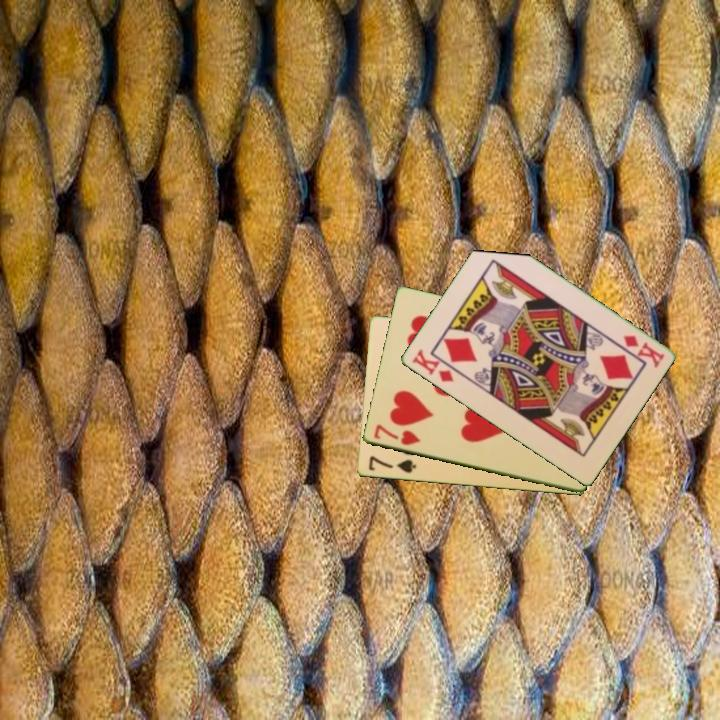7h: (370, 421, 423, 449)
7s: (365, 453, 419, 476)
Kd: (408, 346, 457, 385), (619, 332, 667, 370)
